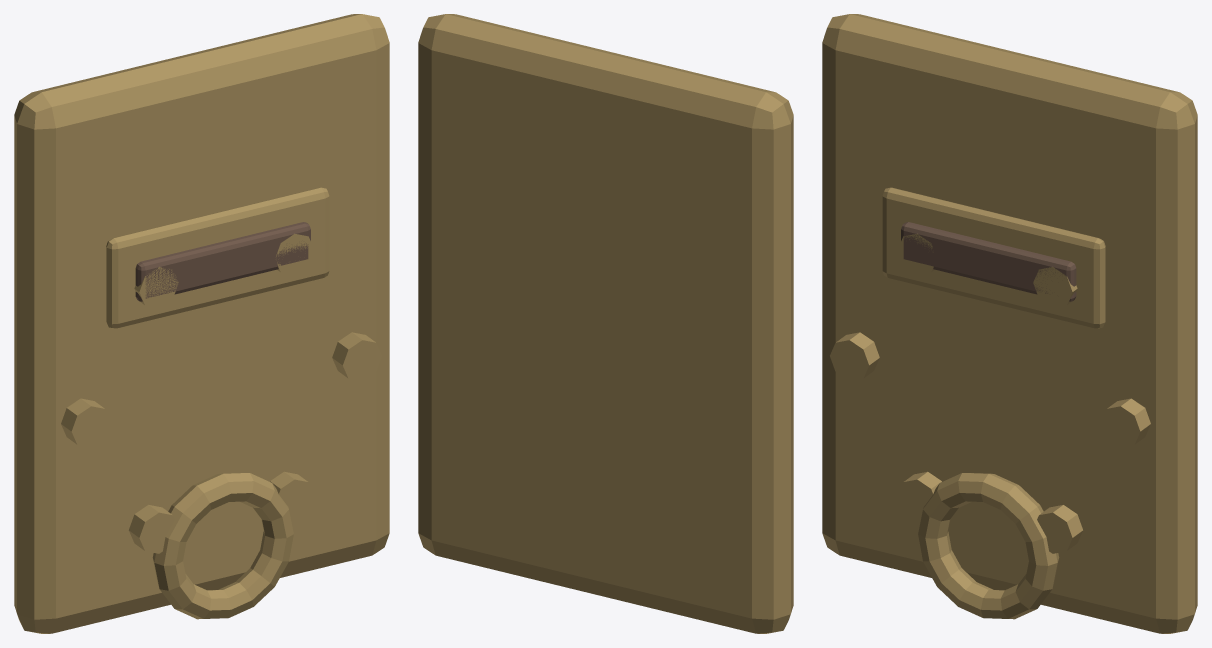
3 views of the same model, side by side, from view 1: azimuth 30°, elevation 25°; view 2: azimuth 150°, elevation 25°; view 3: azimuth 330°, elevation 25° (orthographic).
Parts seen in each view (by area): view 1: tollPlate; view 2: tollPlate; view 3: tollPlate.
Part boxes in pixels (x1,y1,x2,y2): tollPlate: (14,14,389,633); tollPlate: (418,14,793,633); tollPlate: (822,14,1197,633).
Bounding box in the file's own units: 0.3 × 0.426 × 0.061.
